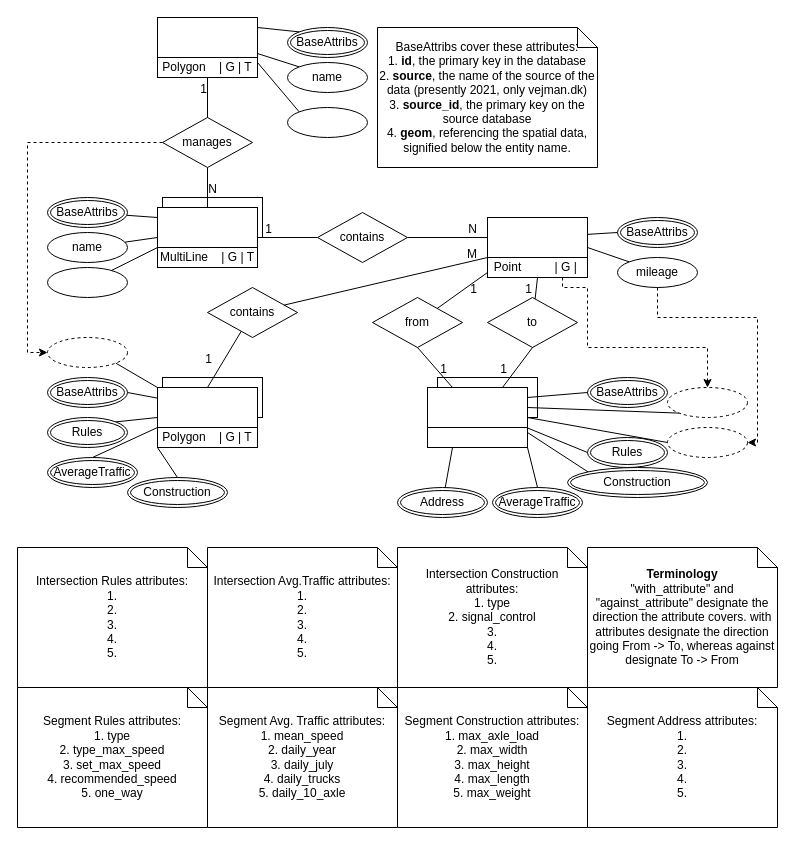
The diagram is 795 pixels wide and 845 high, and some of its shapes have lost their labels. Here are the shapes that lost their labels. From the top down, the box of each, then its label:
(156, 16, 258, 58): municipality
(286, 106, 368, 138): country
(156, 206, 258, 248): road
(486, 216, 588, 258): mileage_post
(46, 266, 128, 298): description
(46, 336, 128, 368): is_border
(156, 386, 258, 428): intersection
(426, 386, 528, 428): segment
(666, 386, 748, 418): with_slope
(426, 426, 528, 448): Line | G | T
(666, 426, 748, 458): length
